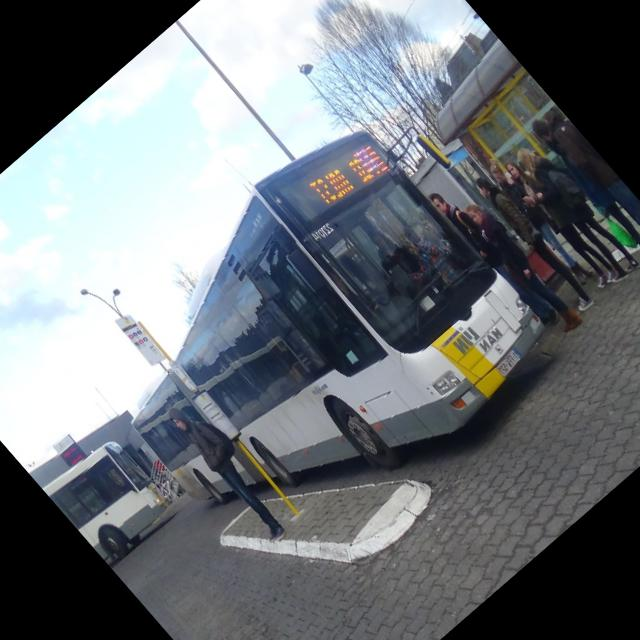bus: (58, 71, 591, 596), (40, 426, 180, 568)
